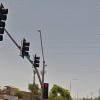Traffic light: (1, 3, 44, 68)
